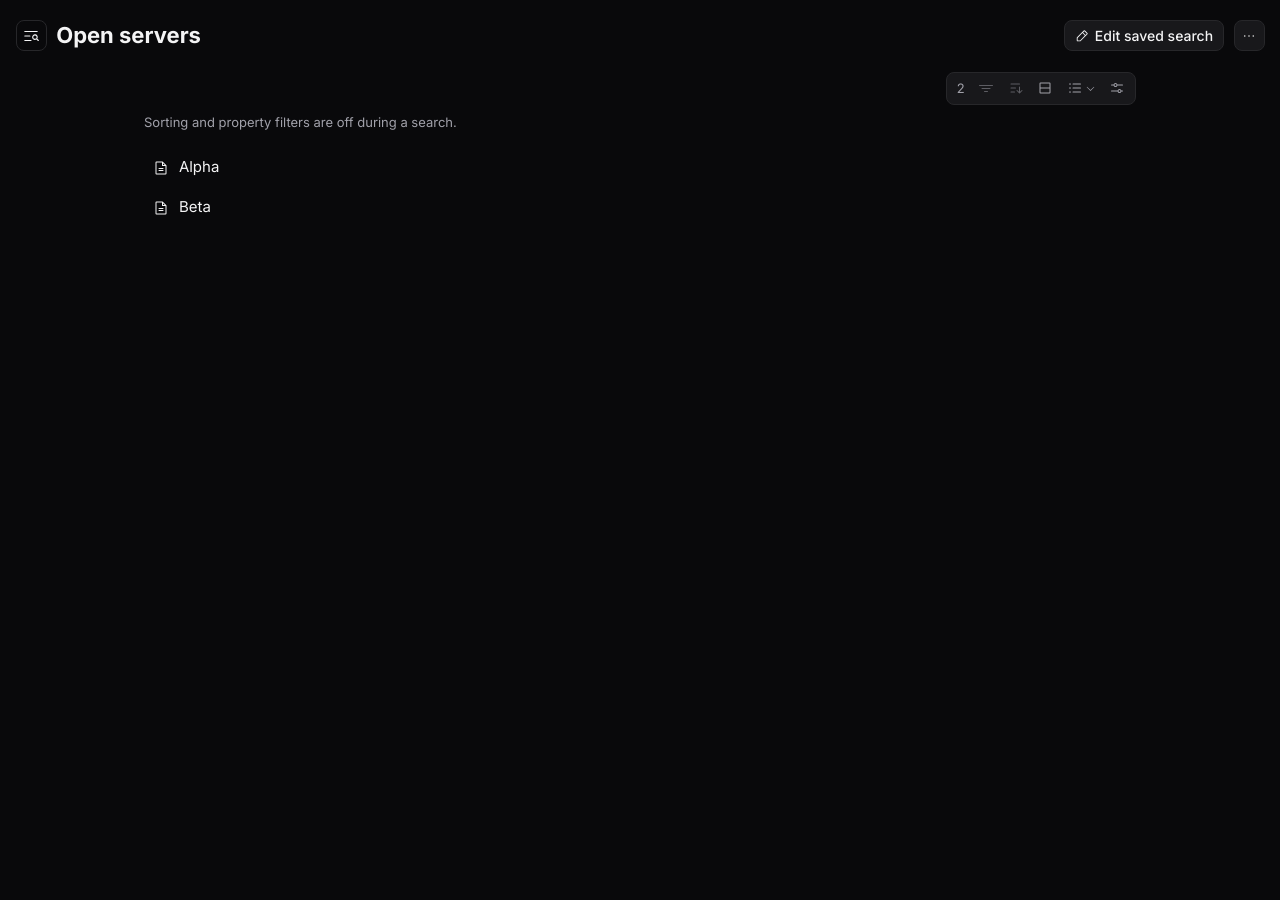
Scenario: QueryPage › with a type selected the exclude control says it has no effect
What coordinates should you click on to do the following:
click the button "Edit saved search"
I would click on:
 (1144, 36)
Its box is [1064,20,1224,51].
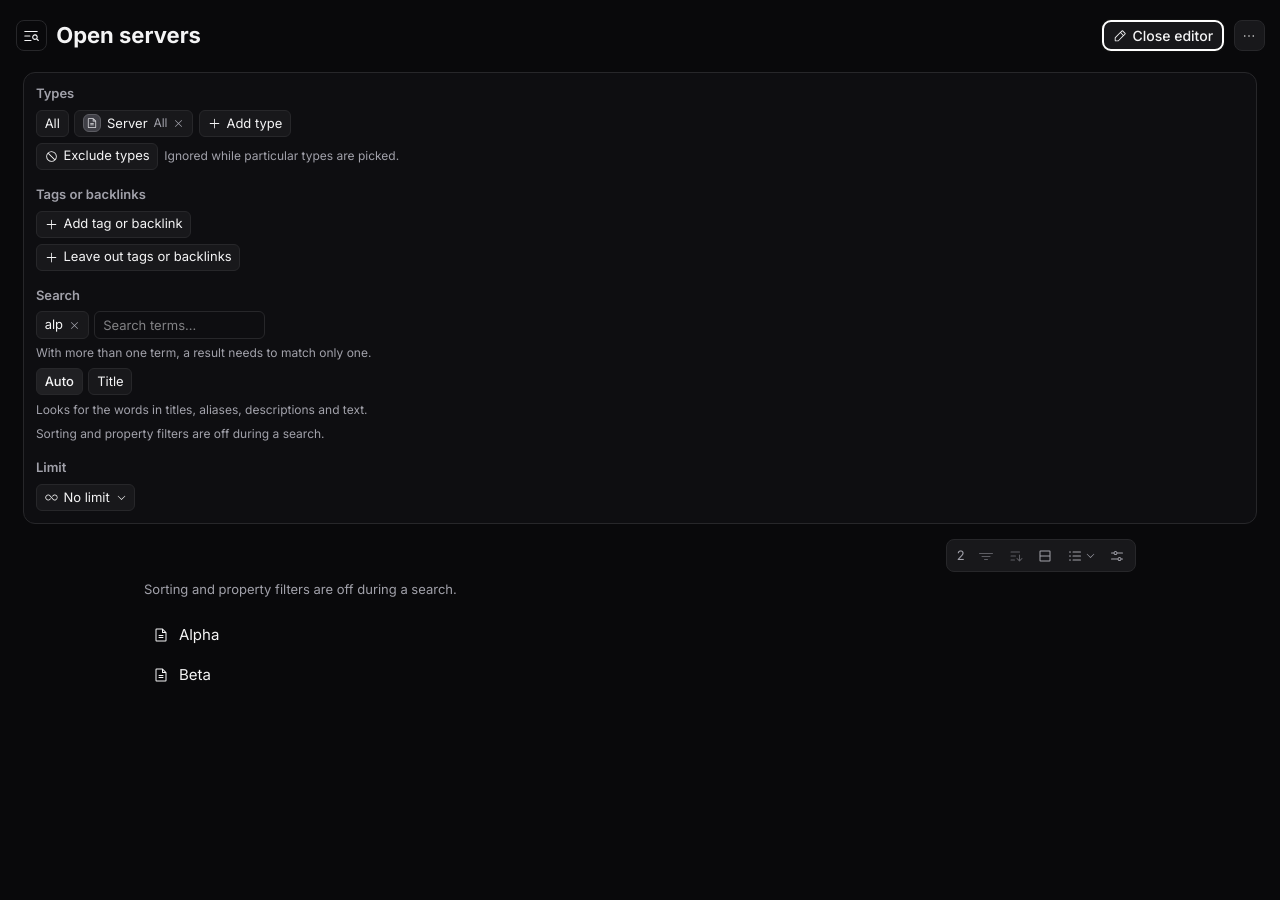
Check: the text "Ignored while particular types are picked." is shown, box [164,147,399,165]
Check: the text "Sorting and property filters are off during a search." below "Server" is shown, box [36,426,325,441]
